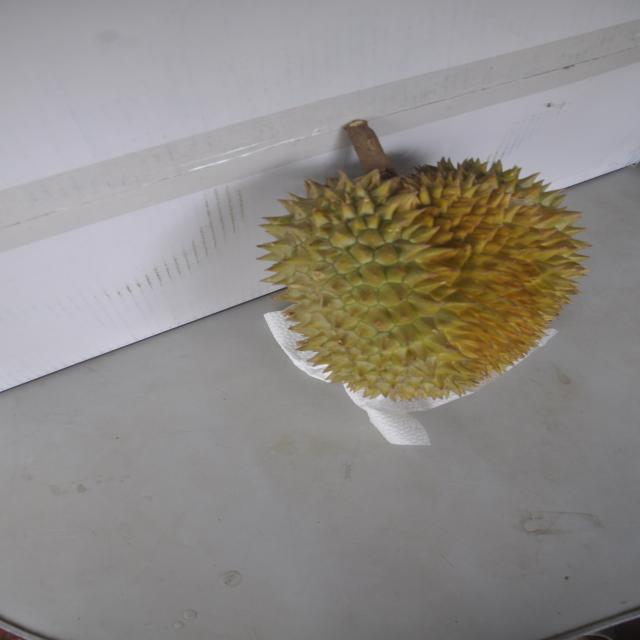mature: (250, 150, 588, 407)
